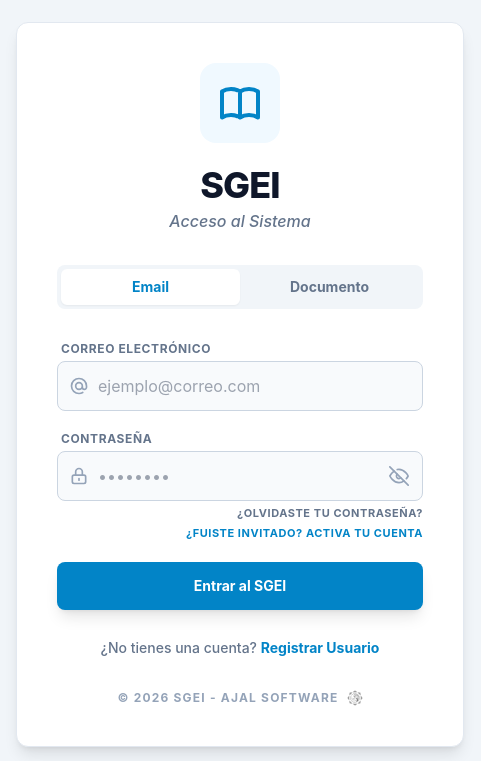
Login Component › debe permitir reenviar verificación si el email no está verificado
In the field with placeholder "ejemplo@correo.com": (240, 386) [57,360,423,410], type "unverified@example.com"
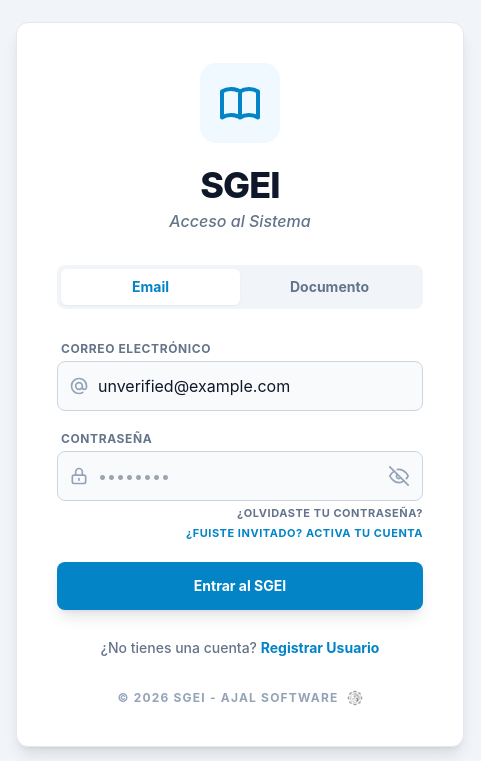
In the password field with placeholder "••••••••": (240, 476) [57,450,423,500], type "password123"
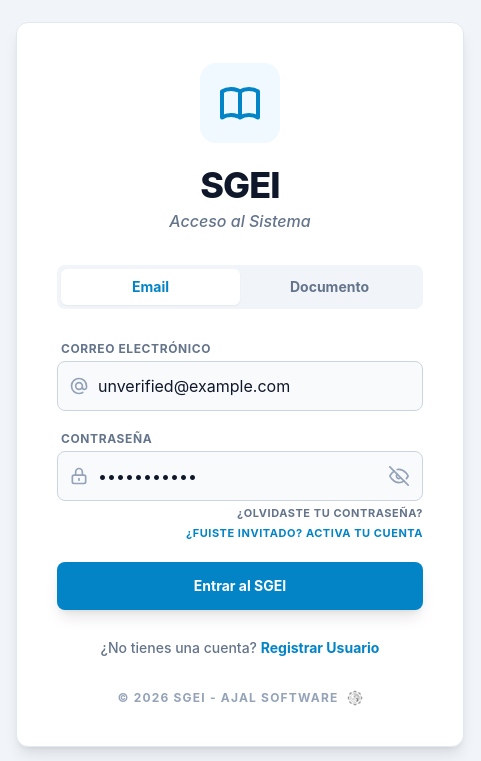
Click the button "Entrar al SGEI": (240, 586) [57,562,423,610]
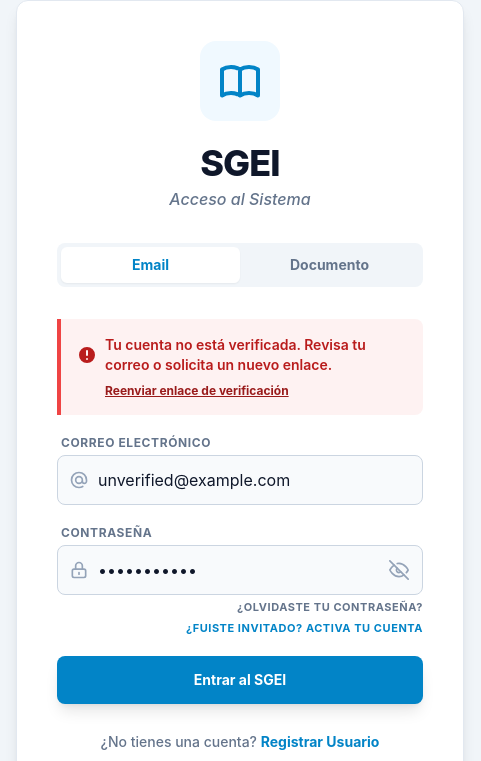
Click the button "Reenviar enlace de verificación": (256, 391) [105,383,407,399]
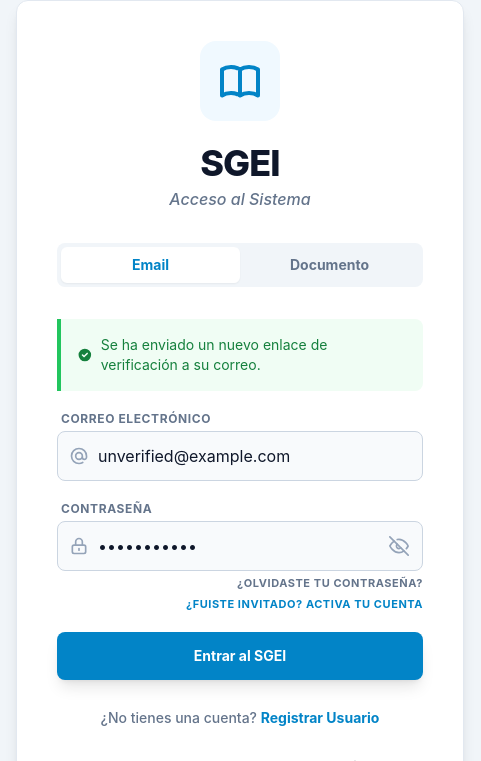
Expected: the text "Se ha enviado un nuevo enlace de verificación a su correo." is shown, [101,336,328,373]
